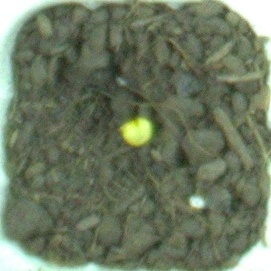chilli seed: (115, 115, 157, 148)
